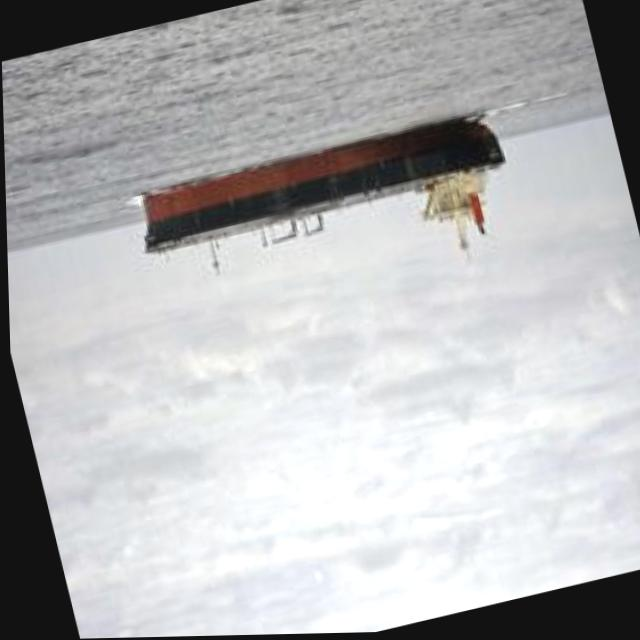ship2: (139, 116, 504, 277)
